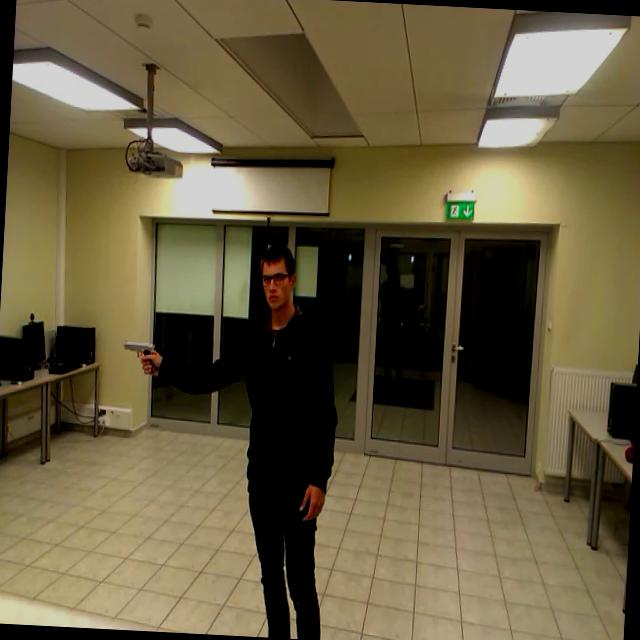handgun: (116, 332, 163, 392)
